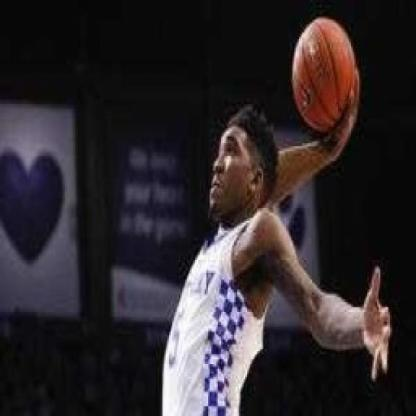basketball: (291, 10, 358, 132)
